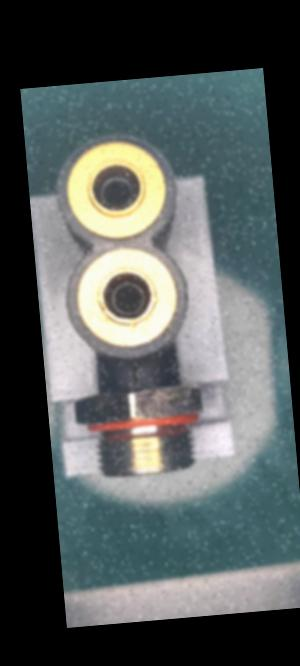craze: (127, 362, 142, 391)
